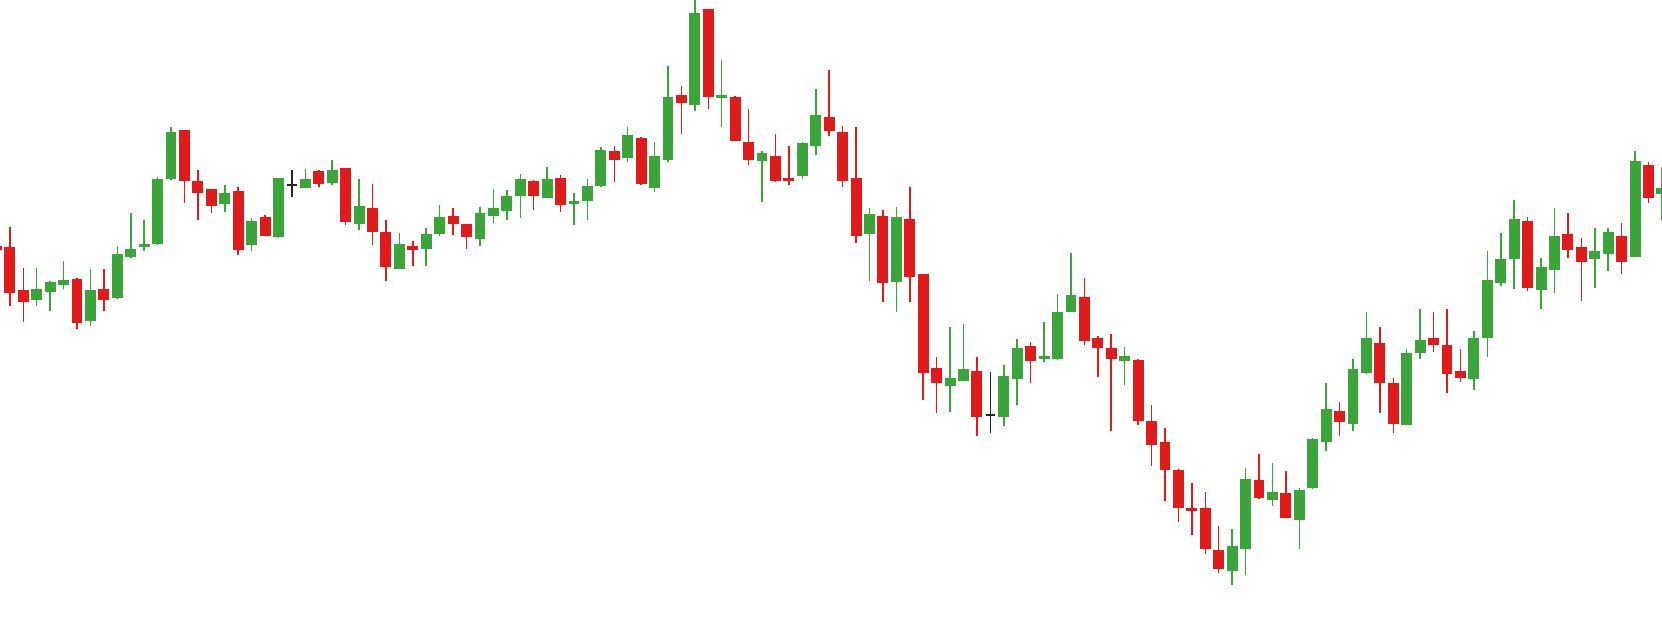buy: (229, 190, 408, 279)
sell: (743, 63, 834, 167)
